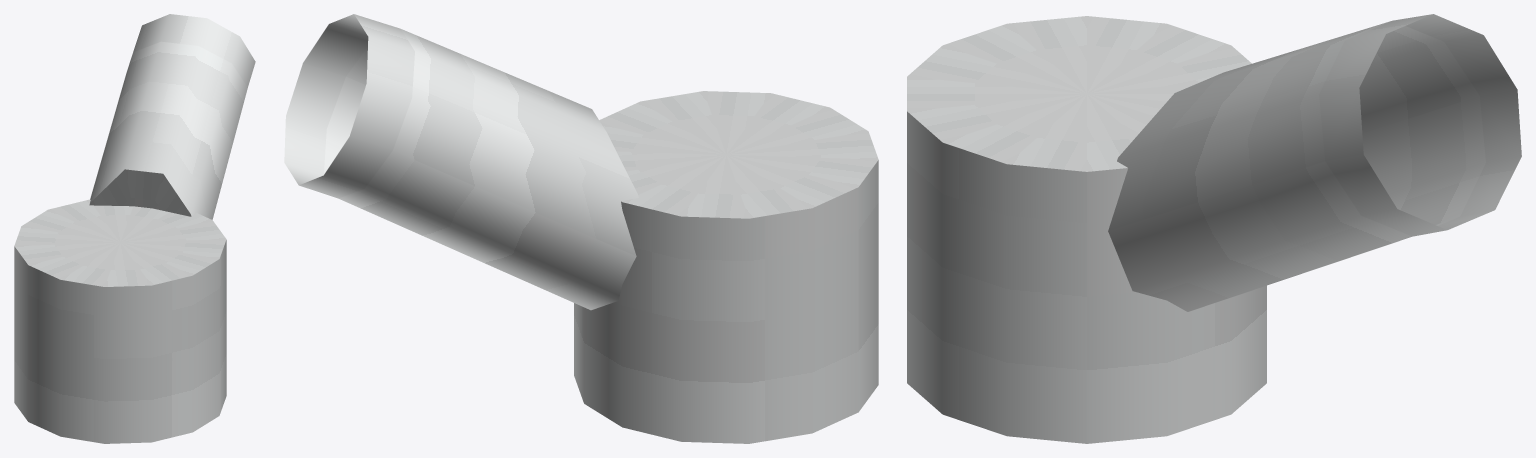
File: nycsignalarm_diagonal4_c1_thin.obj
3 renders of one model, left to right at view 1: azimuth 30°, elevation 25°; view 2: azimuth 150°, elevation 25°; view 3: azimuth 270°, elevation 25°, orthographic. The views are drawn at different scales.
Visible parts, largest first — view 1: nycsignalarm_diagonal4_c1_thin; view 2: nycsignalarm_diagonal4_c1_thin; view 3: nycsignalarm_diagonal4_c1_thin.
Part boxes in pixels (x1=…): nycsignalarm_diagonal4_c1_thin: x1=14, y1=14, x2=255, y2=443; nycsignalarm_diagonal4_c1_thin: x1=284, y1=14, x2=878, y2=443; nycsignalarm_diagonal4_c1_thin: x1=907, y1=14, x2=1521, y2=443.
Bounding box in the file's own units: 0.9545 × 0.8134 × 0.9474.
